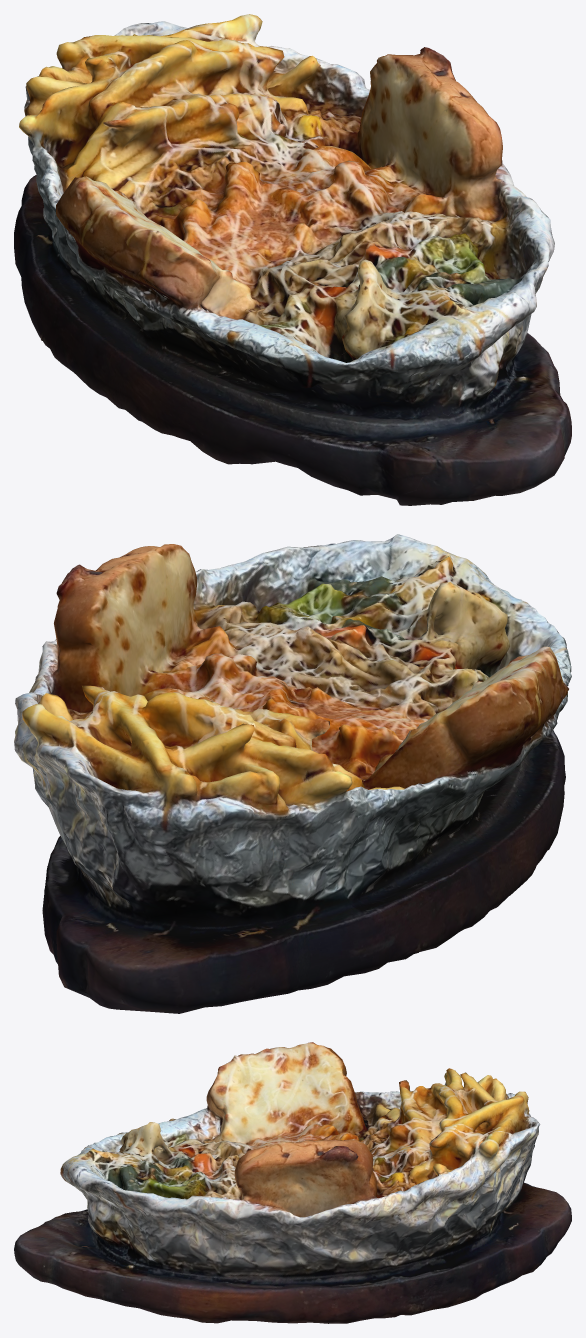
Rendered from Sizzler.glb.
The picture shows the model from 3 angles, top to bottom: view 1: azimuth 30°, elevation 25°; view 2: azimuth 150°, elevation 25°; view 3: azimuth 270°, elevation 25°; orthographic projection. The views are drawn at different scales.
Visible parts, largest first — view 1: Mesh; view 2: Mesh; view 3: Mesh.
Part boxes in pixels (x1,y1,x2,y2): Mesh: (14,14,571,505); Mesh: (14,534,571,1013); Mesh: (14,1042,571,1323).
Size of the model in its own units: 0.1935 by 0.1161 by 0.322.
1 material, 1 textured.
